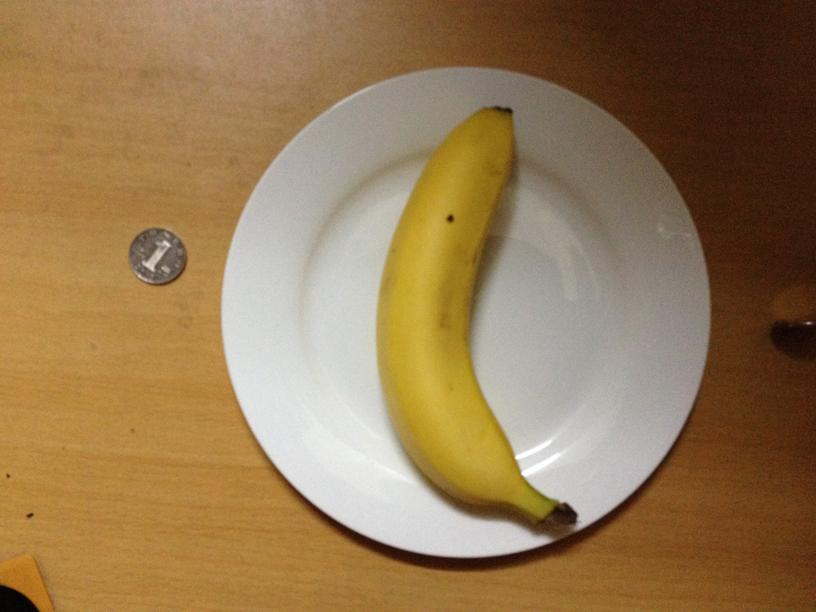banana: (371, 97, 553, 528)
coin: (127, 228, 187, 284)
